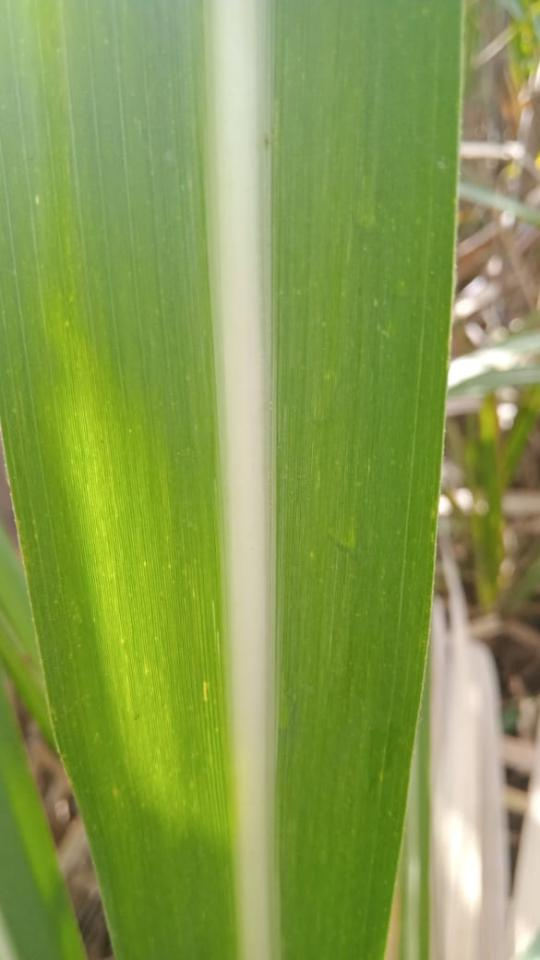Healthy: (0, 0, 465, 959)
